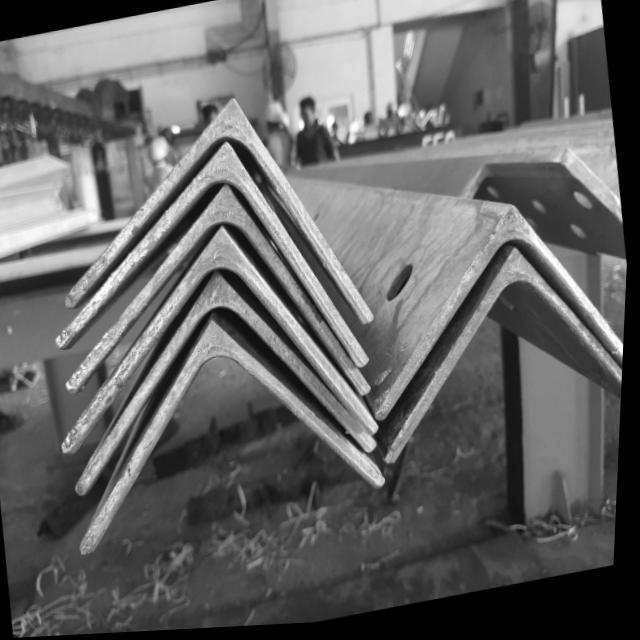metal-angles: (65, 227, 384, 459), (67, 97, 378, 330), (59, 143, 373, 373), (85, 323, 390, 557), (80, 272, 382, 497), (70, 185, 375, 402), (378, 209, 627, 425), (390, 253, 626, 469)
